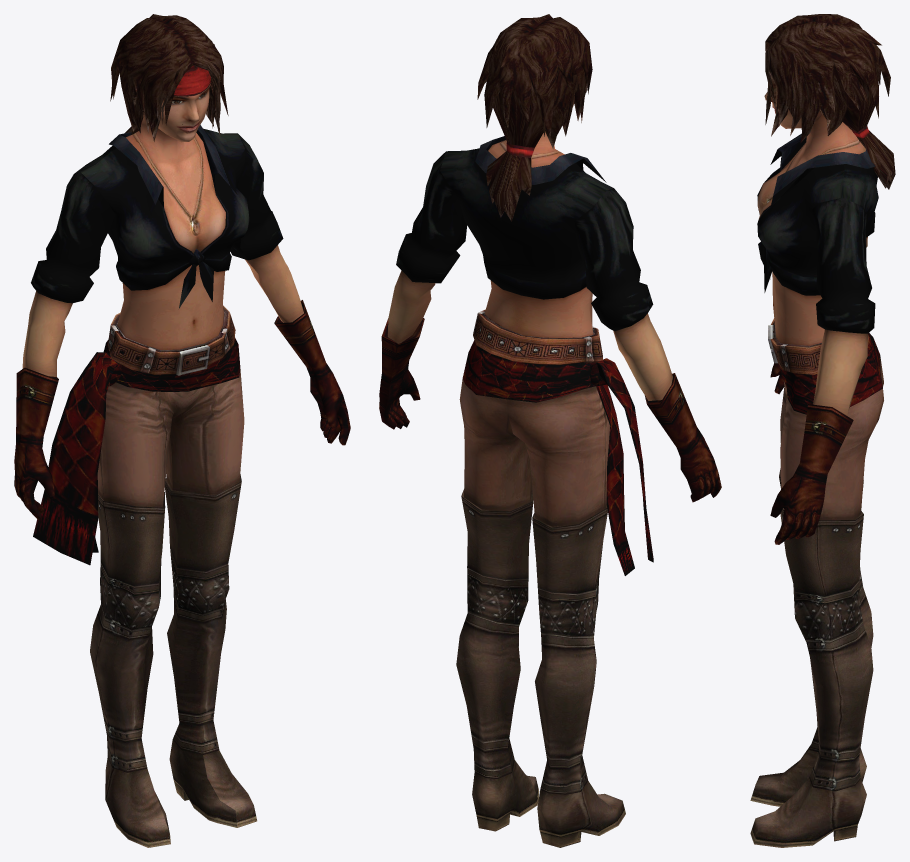
The model's file is actor03.obj.
The picture shows the model from 3 angles, left to right: view 1: azimuth 30°, elevation 25°; view 2: azimuth 150°, elevation 25°; view 3: azimuth 270°, elevation 25°; orthographic projection.
Parts seen in each view (by area): view 1: objBeatriceA; view 2: objBeatriceA; view 3: objBeatriceA.
Part boxes in pixels (x1,y1,x2,y2): objBeatriceA: (14, 14, 350, 847); objBeatriceA: (379, 14, 721, 847); objBeatriceA: (750, 14, 895, 847).
Size of the model in its own units: 7.3 by 16.89 by 2.78.
1 material, 1 textured.
